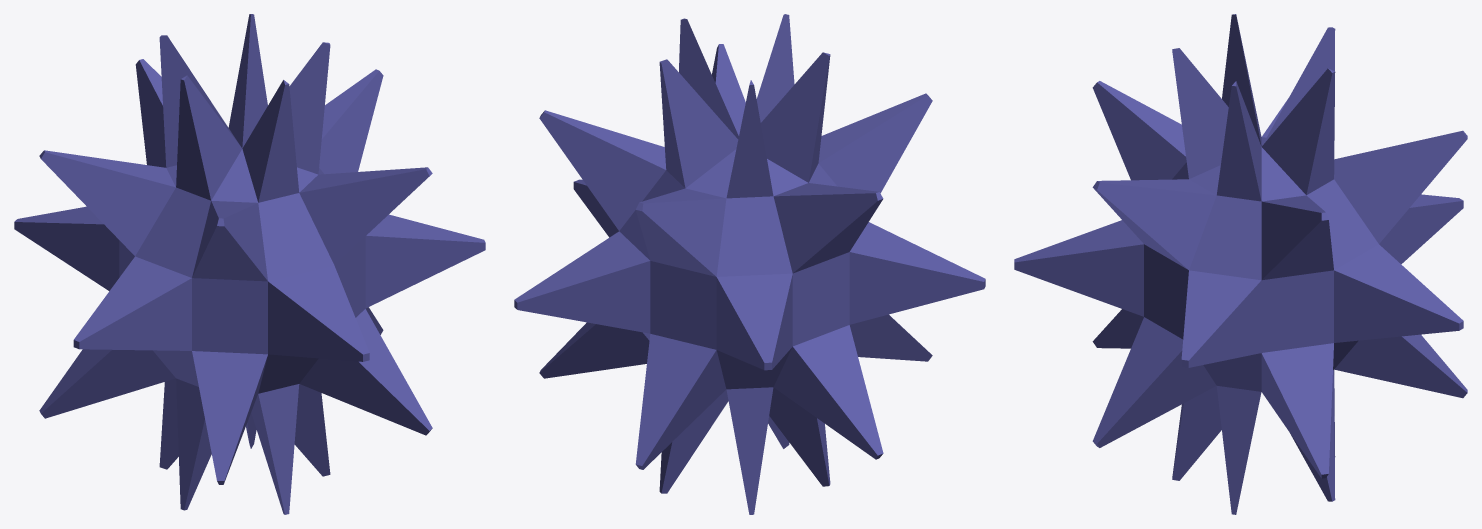
The model's file is frostWand.fbx.
3 views of the same model, side by side, from view 1: azimuth 30°, elevation 25°; view 2: azimuth 150°, elevation 25°; view 3: azimuth 270°, elevation 25° (orthographic).
Parts seen in each view (by area): view 1: frostBolt_v01; view 2: frostBolt_v01; view 3: frostBolt_v01.
Part boxes in pixels (x1,y1,x2,y2): frostBolt_v01: [14, 14, 485, 514]; frostBolt_v01: [514, 14, 985, 514]; frostBolt_v01: [1014, 14, 1467, 514].
Size of the model in its own units: 3.64 by 3.68 by 3.49.
